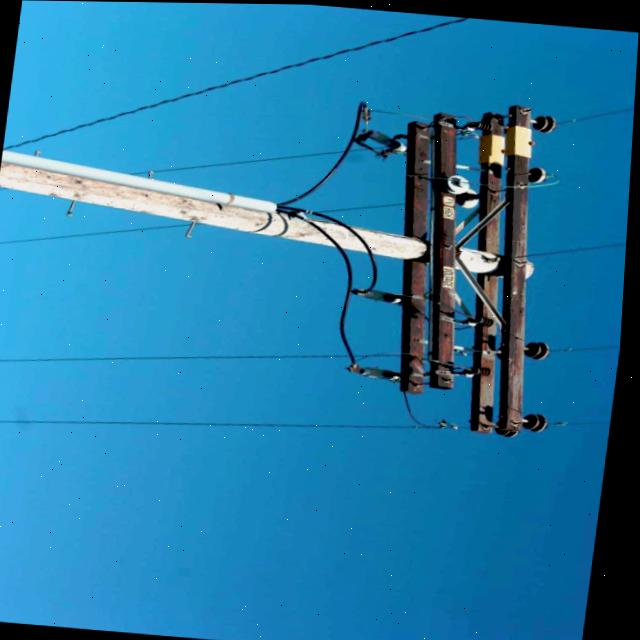poles: (1, 101, 556, 434)
wires: (9, 15, 465, 147), (237, 99, 413, 314), (0, 340, 357, 361), (31, 418, 460, 427), (530, 239, 629, 255), (558, 103, 636, 121), (553, 343, 624, 349), (556, 419, 612, 422)
